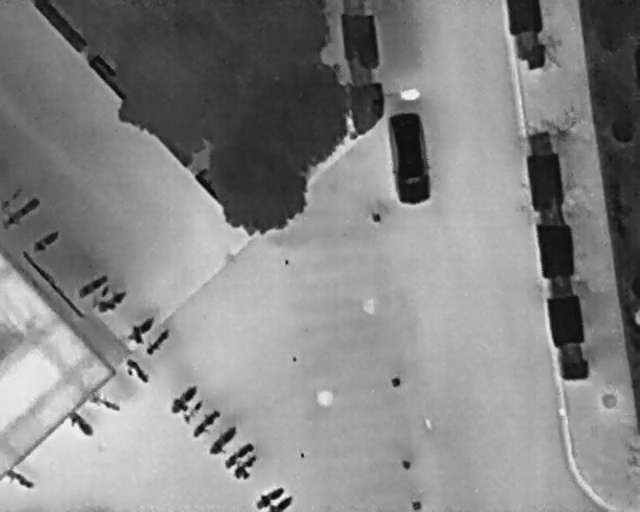Bicycle: (121, 309, 165, 350), (202, 421, 244, 463), (59, 402, 99, 443), (165, 379, 205, 419), (0, 194, 44, 230), (186, 403, 225, 443), (219, 437, 259, 474), (228, 449, 267, 486), (26, 225, 66, 259), (92, 285, 132, 319), (73, 269, 113, 302), (119, 354, 153, 390), (177, 395, 211, 429), (142, 325, 175, 359), (84, 389, 123, 417), (1, 465, 36, 494), (251, 482, 286, 508), (268, 493, 294, 510)
Car: (382, 108, 435, 208)
